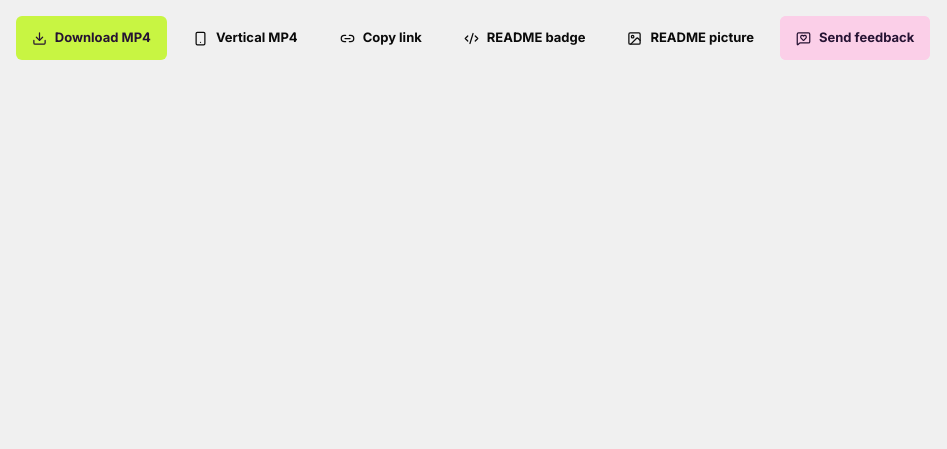
Test: video feedback › is offered where the server says so, and sends the moment on screen
The width and height of the screenshot is (947, 449).
Click the button "Send feedback" at (855, 38), box [780,16,930,60]
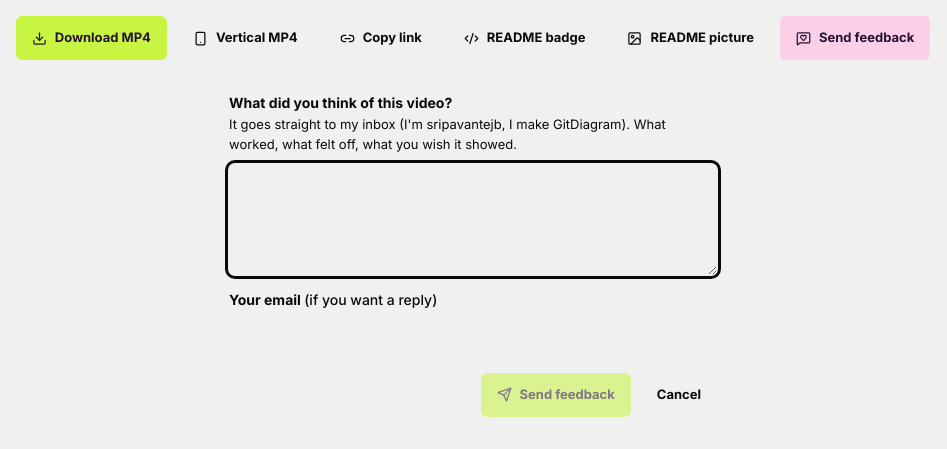
Type " More diagrams please " into the text box labelled "What did you think of this video?" at (473, 219), box [229,164,717,275]
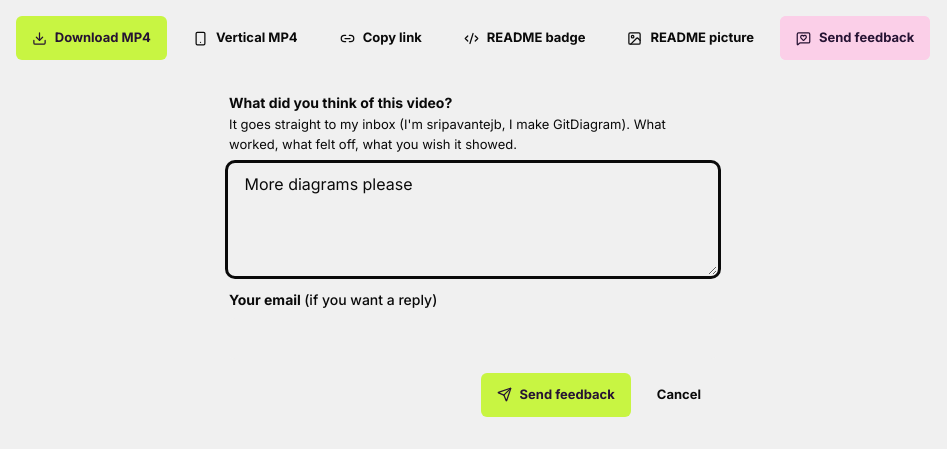
Submit the form labelled "What did you think of this video?", box [213,76,733,433]
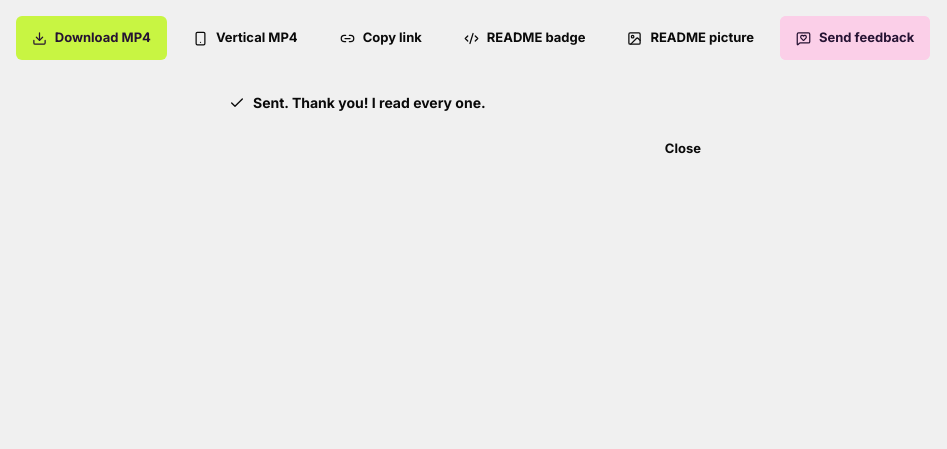
Expected: the text "Sent. Thank you! I read every one." is shown, [229,94,486,111]
